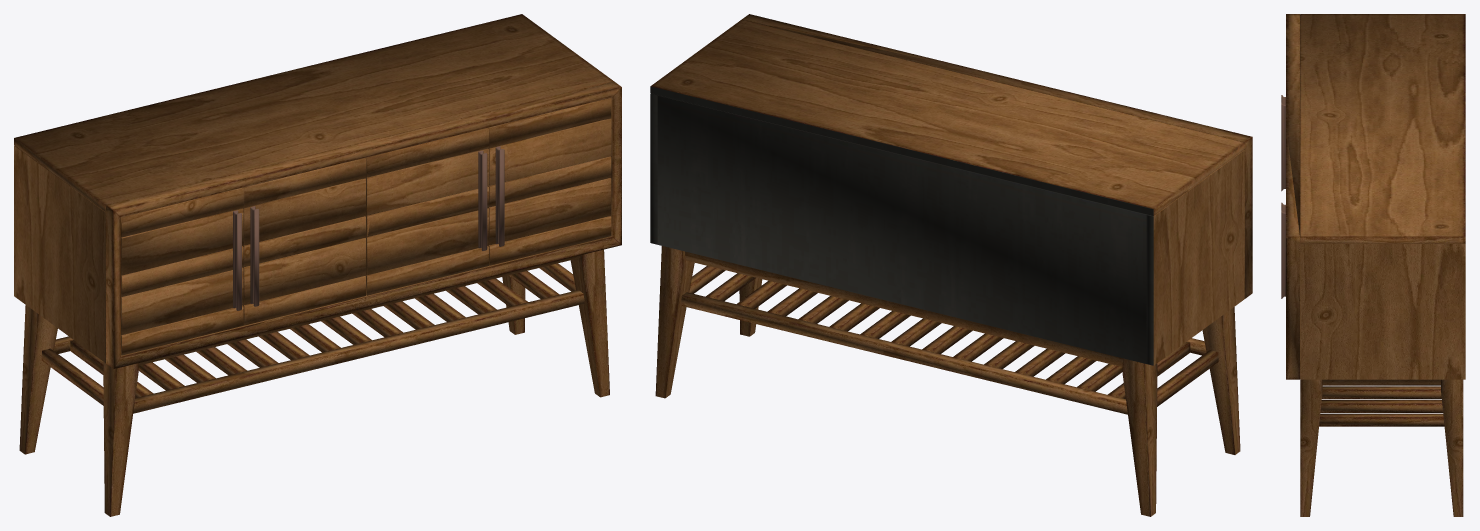
File: abo-B07B78G1BW.glb
3 views of the same model, side by side, from view 1: azimuth 30°, elevation 25°; view 2: azimuth 150°, elevation 25°; view 3: azimuth 270°, elevation 25° (orthographic). The views are drawn at different scales.
Visible parts, largest first — view 1: RootNode; view 2: RootNode; view 3: RootNode.
Boxes of the visible parts, x1,y1,x2,y2 form: RootNode: (14, 14, 621, 516); RootNode: (650, 14, 1252, 516); RootNode: (1281, 14, 1465, 516).
Size of the model in its own units: 1.36 by 0.8023 by 0.4759.
1 material, 1 textured.
